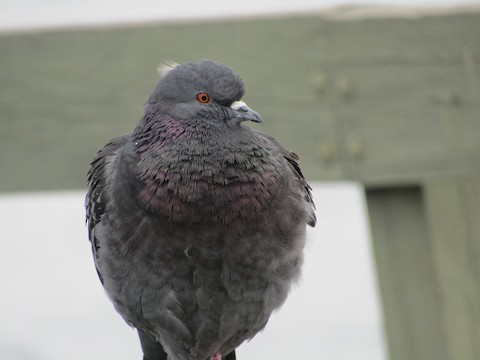pigeon: (79, 56, 324, 351)
